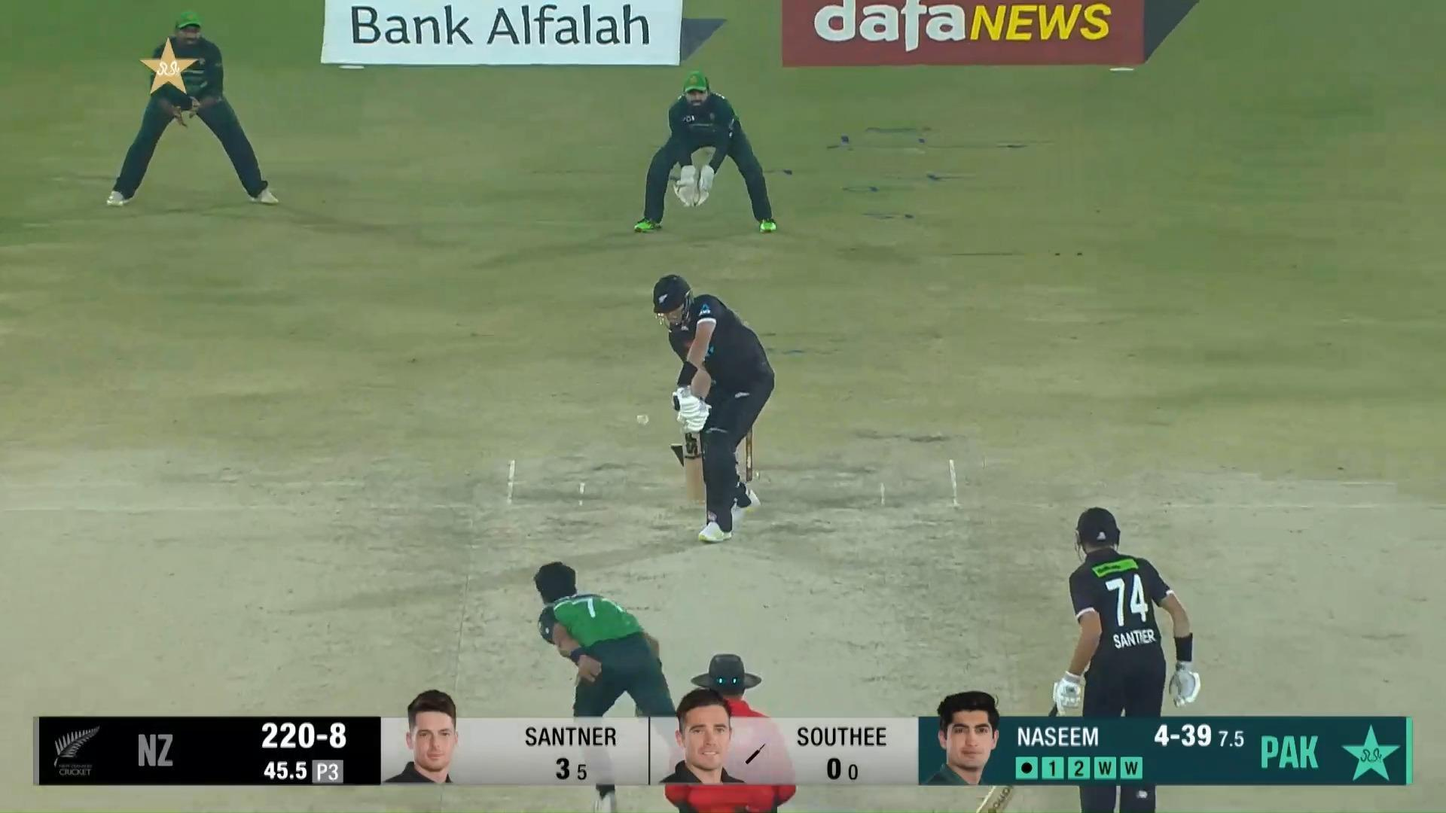BM 1: (653, 274, 774, 543)
BO: (533, 560, 678, 813)
